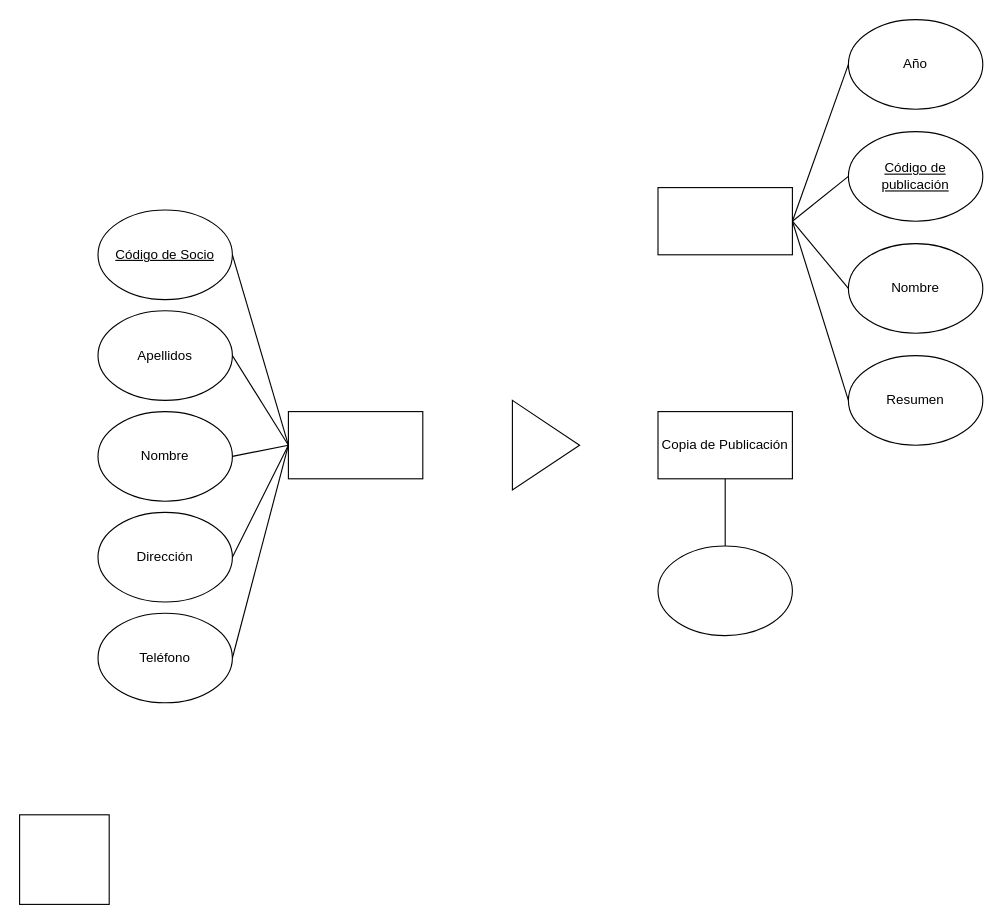
Image size: 1002x924. Some labels were removed from this diagram. Each missing label, with the box of its shape:
Código de copia: (657, 545, 792, 636)
DER con notacino ISO o notacion depata de gallo: (18, 814, 109, 904)
presta: (511, 399, 580, 490)
Publicacion: (657, 186, 792, 255)
Socio: (287, 410, 423, 479)
